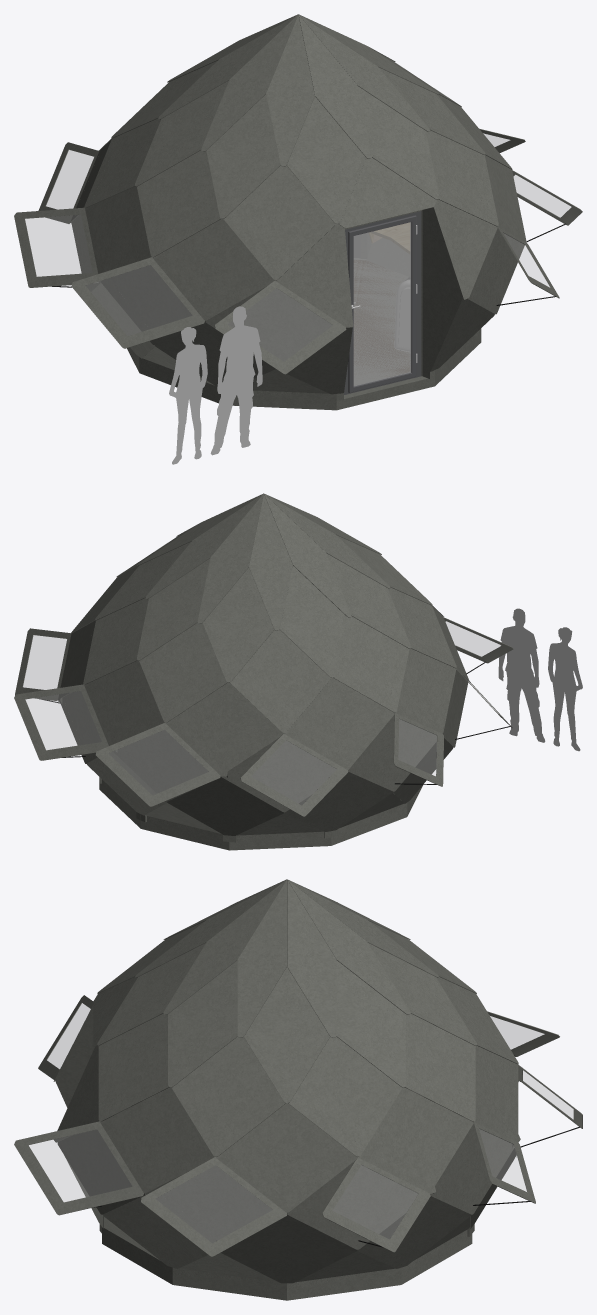
The model's file is zomes-120-draco.glb.
3 views of the same model, one above another, from view 1: azimuth 30°, elevation 25°; view 2: azimuth 150°, elevation 25°; view 3: azimuth 270°, elevation 25° (orthographic). The views are drawn at different scales.
Visible parts, largest first — view 1: maindoor, entry-center-C-4, man, window-glass-C-2.001, foundation, window-glass-C-1.001, window-glass-C-3.001, panel-L3-D-1, panel-L3-F-1, panel-L3-E-1, panel-L3-E-2, panel-L3-F-2 (+34 smaller); view 2: maindoor, entry-center-C-4, entry-center-C-5, man, window-glass-C-5.001, window-glass-C-6.001, window-glass-C-4.001, panel-L3-F-5, panel-L3-F-4, panel-L3-F-6, panel-L3-E-3, panel-L3-E-4 (+41 smaller); view 3: maindoor, window-glass-C-8.001, window-glass-C-9.001, window-glass-C-7.001, panel-L3-D-7, panel-L3-E-8, entry-center-C-6, panel-L3-E-7, panel-L3-F-8, panel-L3-D-8, panel-L3-F-7, panel-L3-F-9 (+39 smaller).
Boxes of the visible parts, left/top/right/bottom form: maindoor: left=91, top=157, right=497, bottom=400; entry-center-C-4: left=70, top=145, right=491, bottom=393; man: left=169, top=306, right=262, bottom=464; window-glass-C-2.001: left=71, top=257, right=204, bottom=348; foundation: left=127, top=261, right=481, bottom=410; window-glass-C-1.001: left=215, top=280, right=346, bottom=374; window-glass-C-3.001: left=14, top=207, right=99, bottom=287; panel-L3-D-1: left=165, top=219, right=271, bottom=319; panel-L3-F-1: left=287, top=96, right=365, bottom=223; panel-L3-E-1: left=234, top=165, right=326, bottom=265; panel-L3-E-2: left=138, top=150, right=219, bottom=243; panel-L3-F-2: left=207, top=94, right=280, bottom=217; maindoor: left=87, top=738, right=453, bottom=841; entry-center-C-4: left=191, top=630, right=394, bottom=842; entry-center-C-5: left=86, top=623, right=280, bottom=841; man: left=498, top=608, right=582, bottom=751; window-glass-C-5.001: left=95, top=723, right=220, bottom=806; window-glass-C-6.001: left=14, top=684, right=108, bottom=760; window-glass-C-4.001: left=240, top=733, right=348, bottom=816; panel-L3-F-5: left=203, top=571, right=274, bottom=682; panel-L3-F-4: left=280, top=566, right=346, bottom=676; panel-L3-F-6: left=137, top=562, right=208, bottom=659; panel-L3-E-3: left=338, top=616, right=407, bottom=699; panel-L3-E-4: left=230, top=641, right=312, bottom=731; maindoor: left=53, top=977, right=516, bottom=1290; window-glass-C-8.001: left=141, top=1157, right=286, bottom=1256; window-glass-C-9.001: left=14, top=1121, right=144, bottom=1215; window-glass-C-7.001: left=322, top=1157, right=430, bottom=1252; panel-L3-D-7: left=229, top=1103, right=344, bottom=1211; panel-L3-E-8: left=173, top=1036, right=283, bottom=1141; entry-center-C-6: left=357, top=1014, right=513, bottom=1274; panel-L3-E-7: left=290, top=1036, right=391, bottom=1141; panel-L3-F-8: left=244, top=972, right=329, bottom=1102; panel-L3-D-8: left=103, top=1087, right=205, bottom=1178; panel-L3-F-7: left=336, top=960, right=405, bottom=1086; panel-L3-F-9: left=168, top=960, right=237, bottom=1087.
Bounding box in the file's own units: 6.29 × 3.93 × 5.98.
20 materials, 8 textured.
